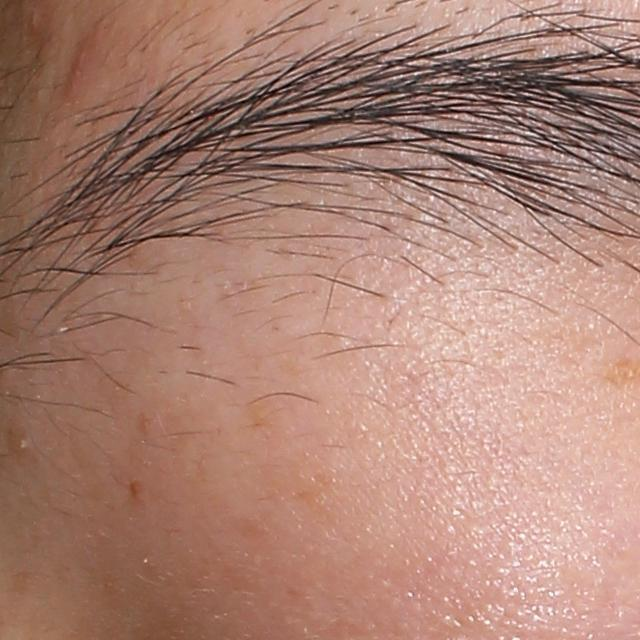melasma: (126, 478, 148, 505)
papule: (66, 39, 94, 97)
